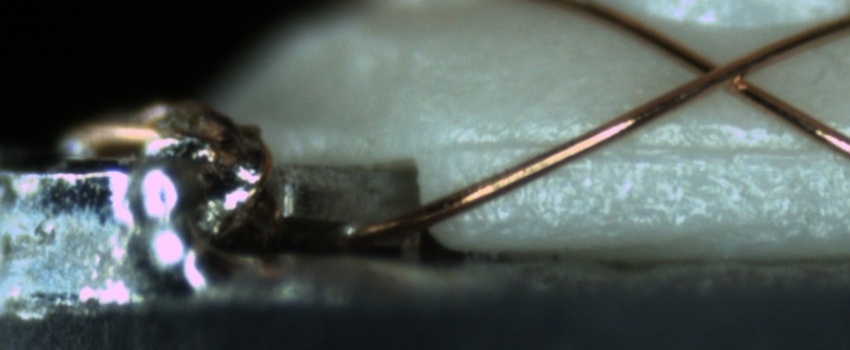CL: (677, 40, 772, 101)
DL: (443, 122, 849, 177)
TE: (55, 105, 178, 163)
